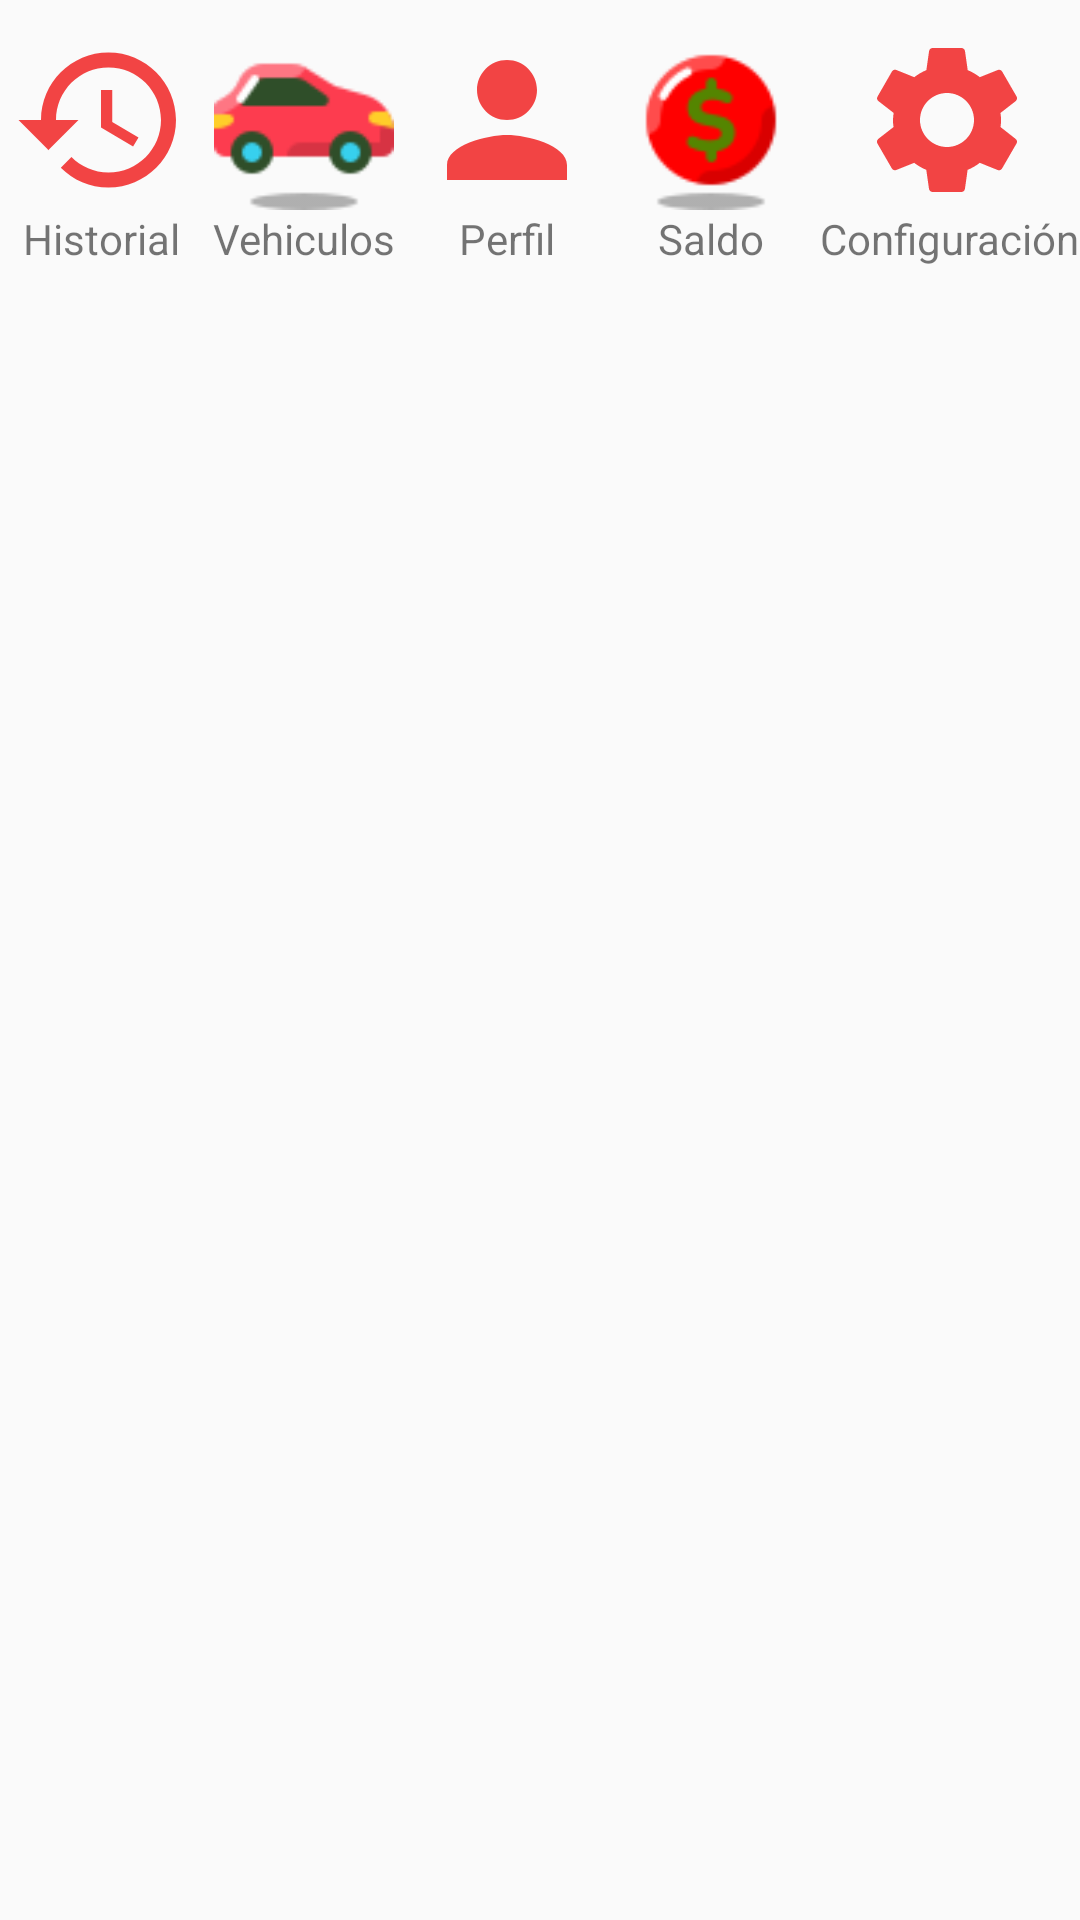

Screen size 1080×1920. Icon name, then its box in pixels as Rect(x1, y1, x2, y2):
person: Rect(447, 60, 567, 180)
